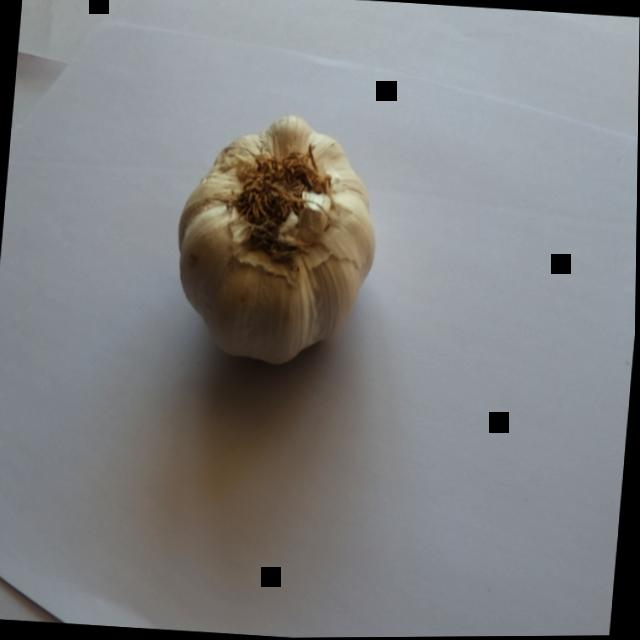Garlic: (155, 78, 396, 398)
